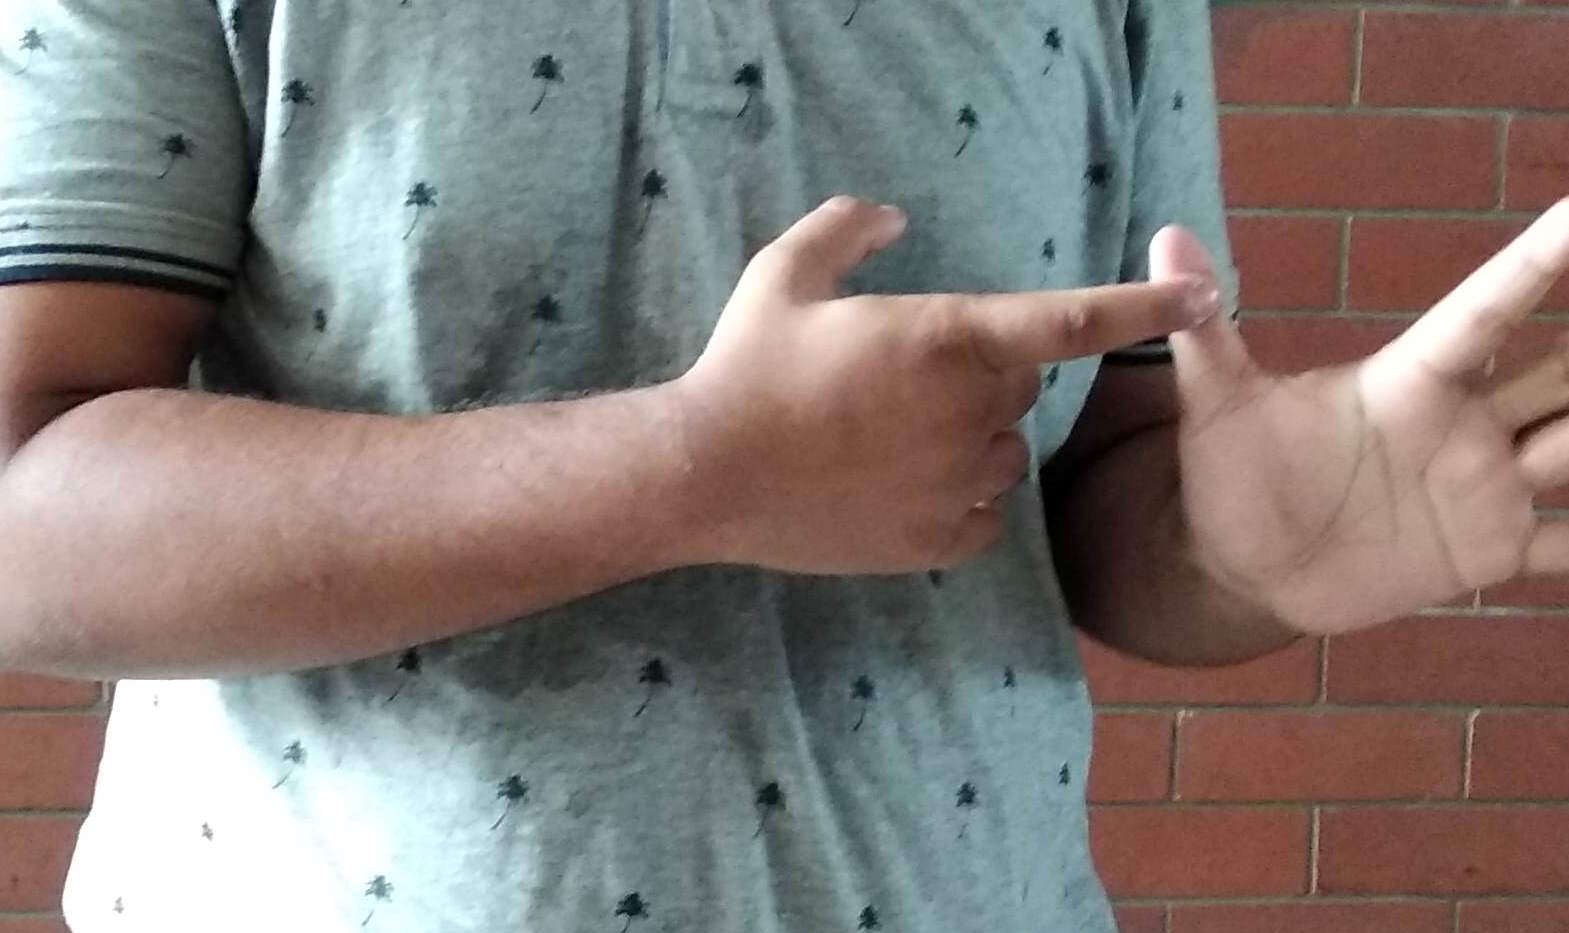a: (767, 183, 1558, 668)
